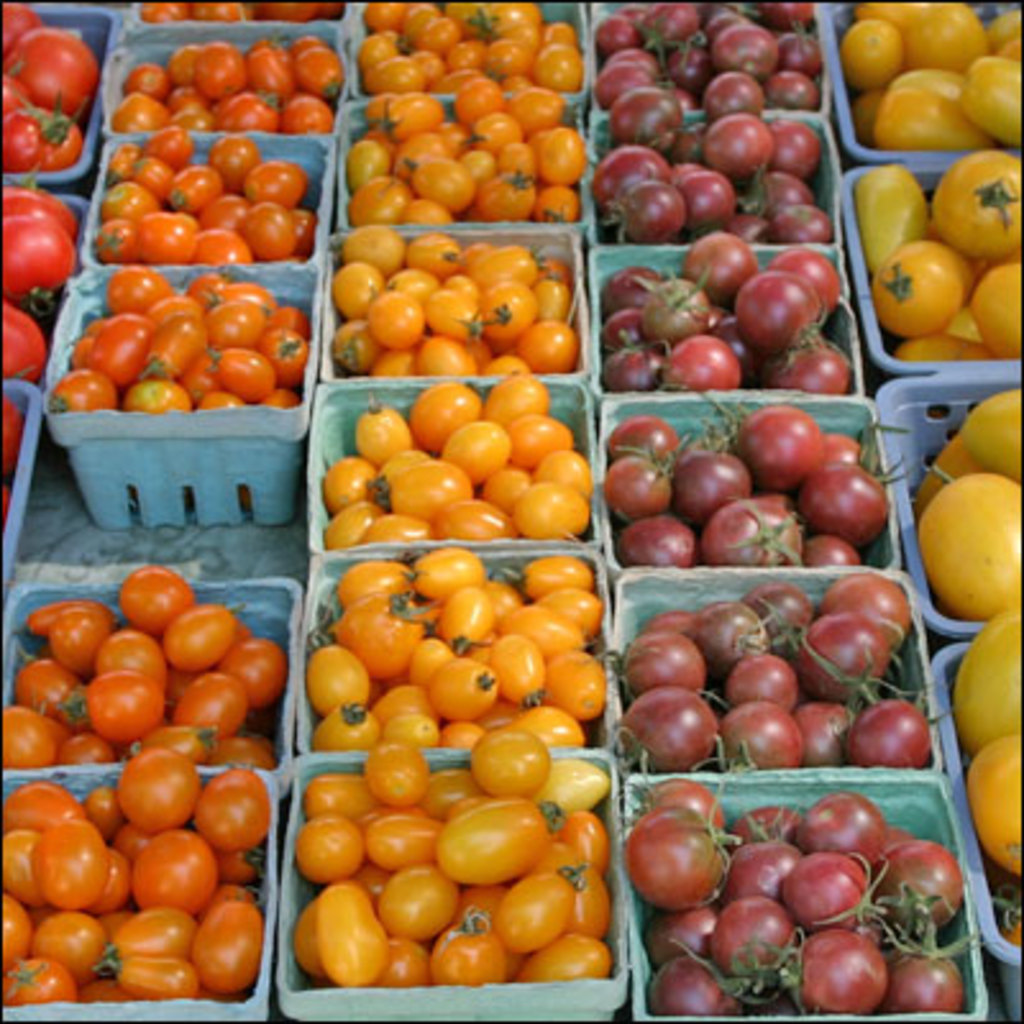Tomato: (289, 716, 599, 977), (632, 788, 972, 1011), (0, 744, 276, 998), (299, 547, 593, 752), (0, 555, 271, 768), (614, 586, 924, 770), (606, 414, 875, 568), (322, 378, 578, 535), (48, 263, 309, 407), (599, 232, 839, 386), (855, 148, 1016, 373), (330, 225, 570, 371), (586, 94, 826, 240), (345, 76, 581, 222), (94, 130, 314, 258), (867, 0, 1018, 151), (609, 0, 819, 102), (120, 35, 343, 130), (358, 0, 578, 92), (908, 468, 1018, 619), (616, 808, 744, 929), (947, 609, 1021, 762), (965, 734, 1021, 880), (0, 209, 74, 314), (7, 28, 97, 110), (916, 435, 1000, 519), (2, 104, 87, 176), (970, 394, 1021, 483), (0, 176, 81, 232), (0, 294, 48, 378), (0, 386, 30, 473), (0, 0, 35, 69), (988, 880, 1021, 944), (253, 0, 325, 28), (0, 81, 35, 130), (192, 0, 245, 20), (148, 0, 192, 17)
